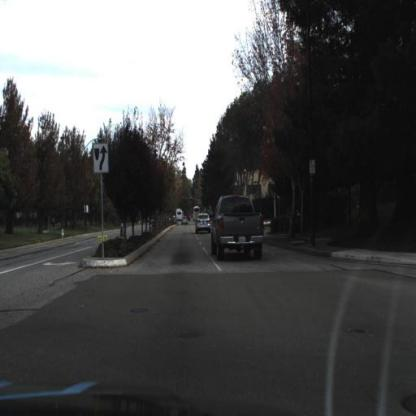car: (209, 194, 266, 261), (195, 213, 213, 238)
